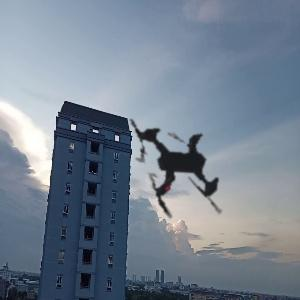drone: (84, 75, 268, 259)
